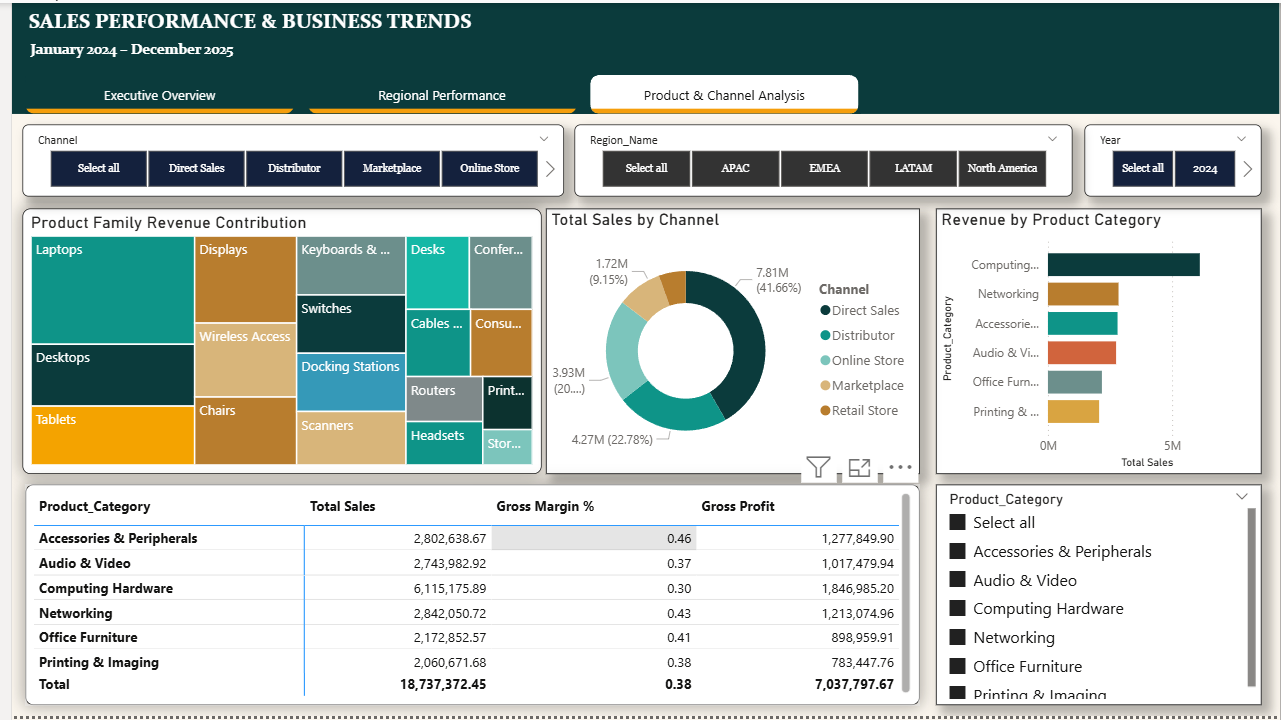

What the dashboard file says about the page in this screenshot:
{"tool":"powerbi","page":{"name":"Product & Channel Analysis","canvas":[1280,720],"ordinal":2},"visuals":[{"type":"clusteredBarChart","title":"Revenue by Product Category","fields":{"Category":["Dim_Product.Product_Category"],"Y":["Data_Dictionary.Total Sales"]},"box":[857,439.1,280.1,280.1],"z":0},{"type":"treemap","title":"Product Family Revenue Contribution","fields":{"Group":["Dim_Product.Product_Family"],"Values":["Data_Dictionary.Total Sales"]},"box":[10,290,280,280],"z":1000},{"type":"donutChart","fields":{"Category":["Sales_Transactions.Channel"],"Y":["Data_Dictionary.Total Sales"]},"box":[402.8,210.5,280.1,248.3],"z":2000},{"type":"pivotTable","fields":{"Rows":["Dim_Product.Product_Category"],"Values":["Data_Dictionary.Total Sales","Data_Dictionary.Gross Margin %","Data_Dictionary.Gross Profit"]},"box":[737.4,92.4,542.1,248.3],"z":3000},{"type":"slicer","fields":{"Values":["DateTable.Year"]},"box":[737.4,522.4,178.7,196.8],"z":4000},{"type":"slicer","fields":{"Values":["Dim_Product.Product_Category"]},"box":[1041.8,360.4,178.7,196.8],"z":5000},{"type":"slicer","fields":{"Values":["Sales_Transactions.Channel"]},"box":[10,570,280,150],"z":6000},{"type":"slicer","fields":{"Values":["Dim_Region.Region_Name"]},"box":[389,570,280,150],"z":7000},{"type":"textbox","box":[0,0,1279.5,112.1],"z":8000},{"type":"pageNavigator","box":[13.6,72.7,843.4,39.4],"z":9000}]}

Visuals, with their boxes in screenshot pixels (x1, y1, x2, y2), scaled from the page's 1280x720 canvas onto the 1281x720 screenshot:
"Revenue by Product Category" clusteredBarChart: [left=858, top=439, right=1138, bottom=719]
"Product Family Revenue Contribution" treemap: [left=10, top=290, right=290, bottom=570]
donutChart - Sales_Transactions.Channel x Data_Dictionary.Total Sales: [left=403, top=210, right=683, bottom=459]
pivotTable - Dim_Product.Product_Category x Data_Dictionary.Total Sales: [left=738, top=92, right=1280, bottom=341]
slicer - DateTable.Year: [left=738, top=522, right=917, bottom=719]
slicer - Dim_Product.Product_Category: [left=1043, top=360, right=1221, bottom=557]
slicer - Sales_Transactions.Channel: [left=10, top=570, right=290, bottom=719]
slicer - Dim_Region.Region_Name: [left=389, top=570, right=670, bottom=719]
textbox: [left=0, top=0, right=1280, bottom=112]
pageNavigator: [left=14, top=73, right=858, bottom=112]
